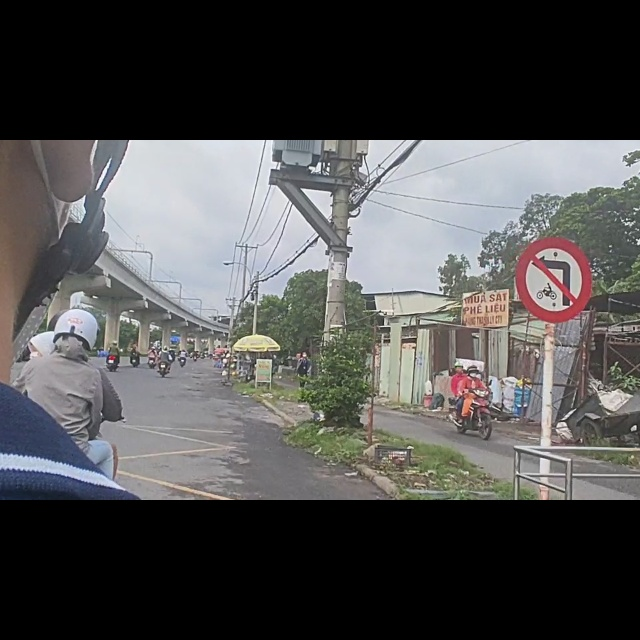bien_cam: (515, 173, 591, 332)
